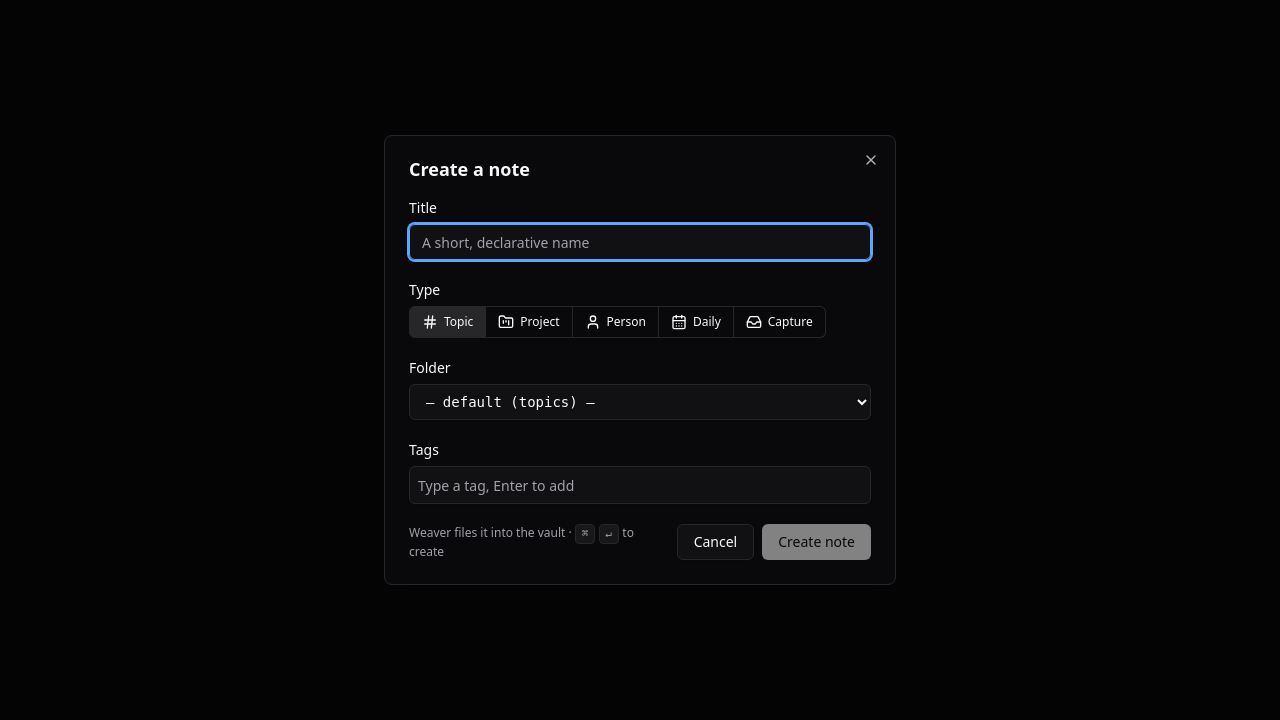
Test: NewNoteModal › renders an error and keeps the modal open when createNote rejects
The width and height of the screenshot is (1280, 720).
Type "Doomed Note" into the field labelled "Title". click: (640, 242)
box: [409,224,871,260]
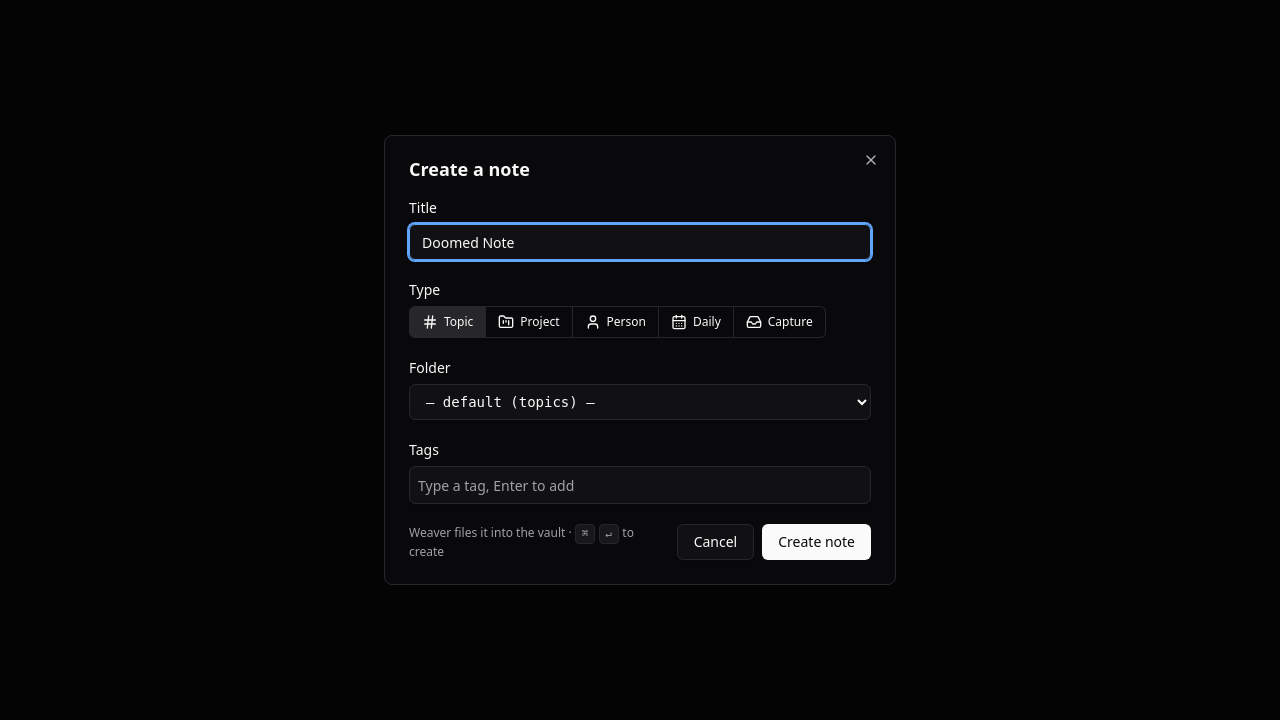
Click the button "Create note". click: click(817, 542)
box: [762,524,871,560]
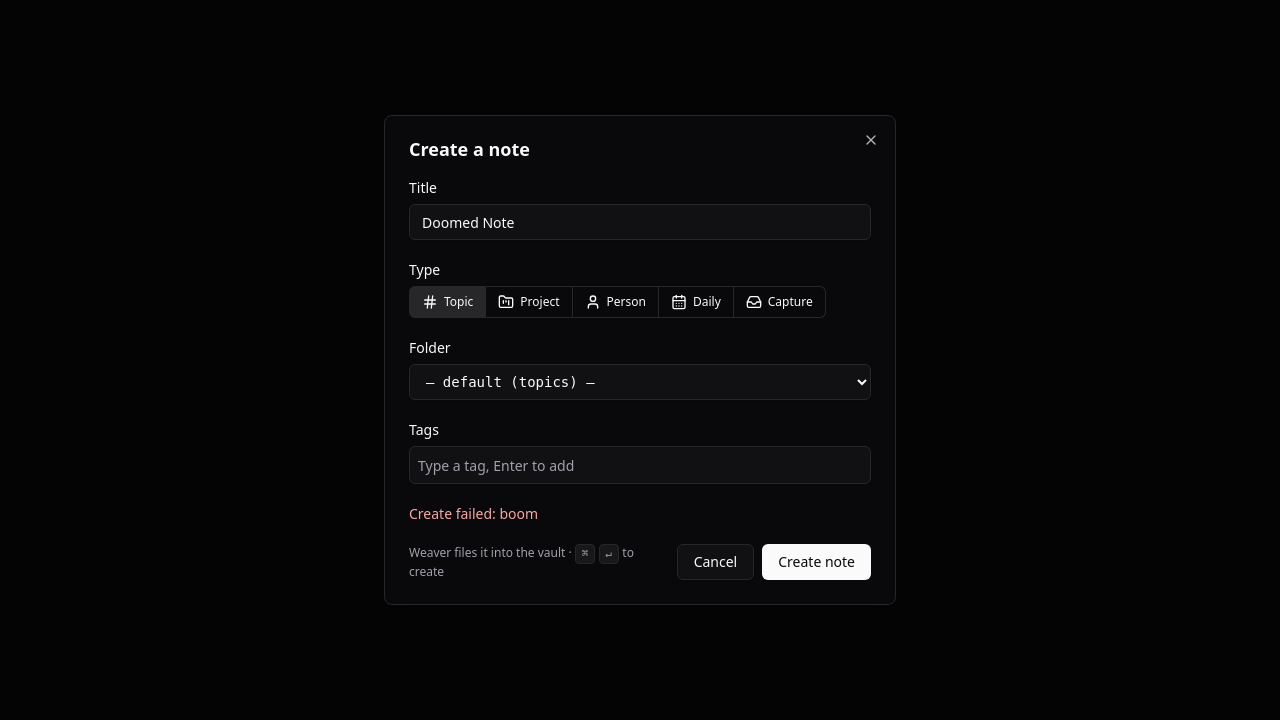
Check: the message reads "Create failed: boom", box [409,504,538,523]
